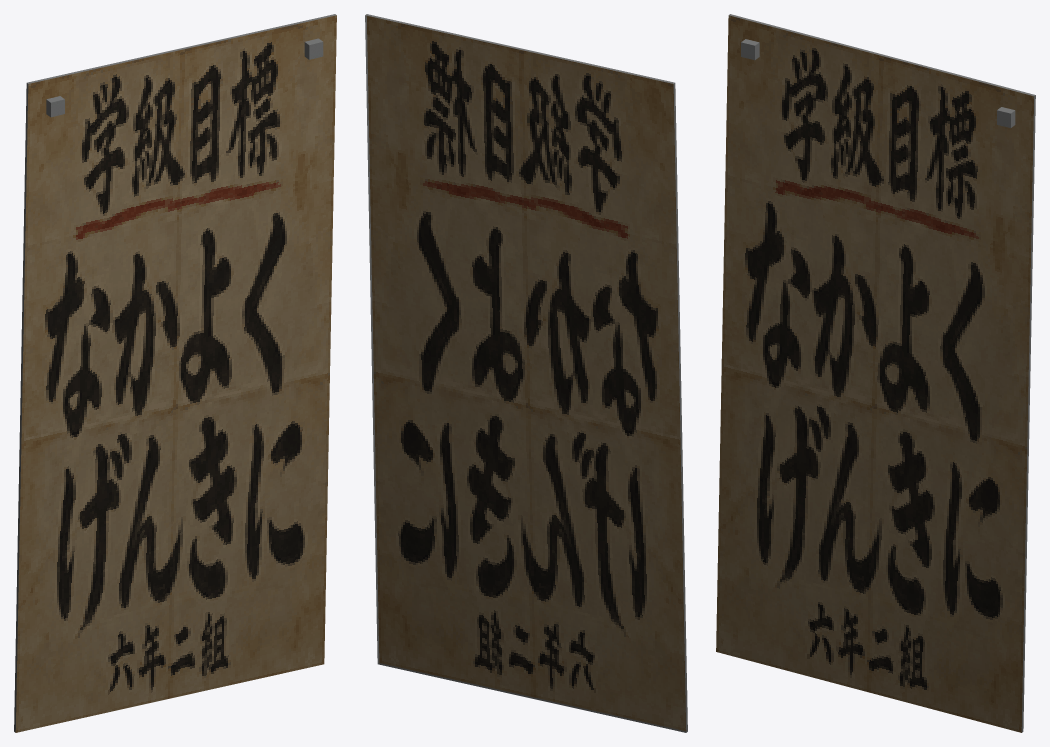
File: prop_poster-mokuhyo-0.glb
The picture shows the model from 3 angles, left to right: view 1: azimuth 30°, elevation 25°; view 2: azimuth 150°, elevation 25°; view 3: azimuth 330°, elevation 25°; orthographic projection.
Parts seen in each view (by area): view 1: prop_poster-mokuhyo-0; view 2: prop_poster-mokuhyo-0; view 3: prop_poster-mokuhyo-0.
Boxes of the visible parts, x1,y1,x2,y2 form: prop_poster-mokuhyo-0: [14, 14, 336, 732]; prop_poster-mokuhyo-0: [365, 14, 687, 732]; prop_poster-mokuhyo-0: [716, 14, 1035, 732].
Bounding box in the file's own units: 0.3197 × 0.6205 × 0.0115.
Materials: 2 (2 with a texture image).
